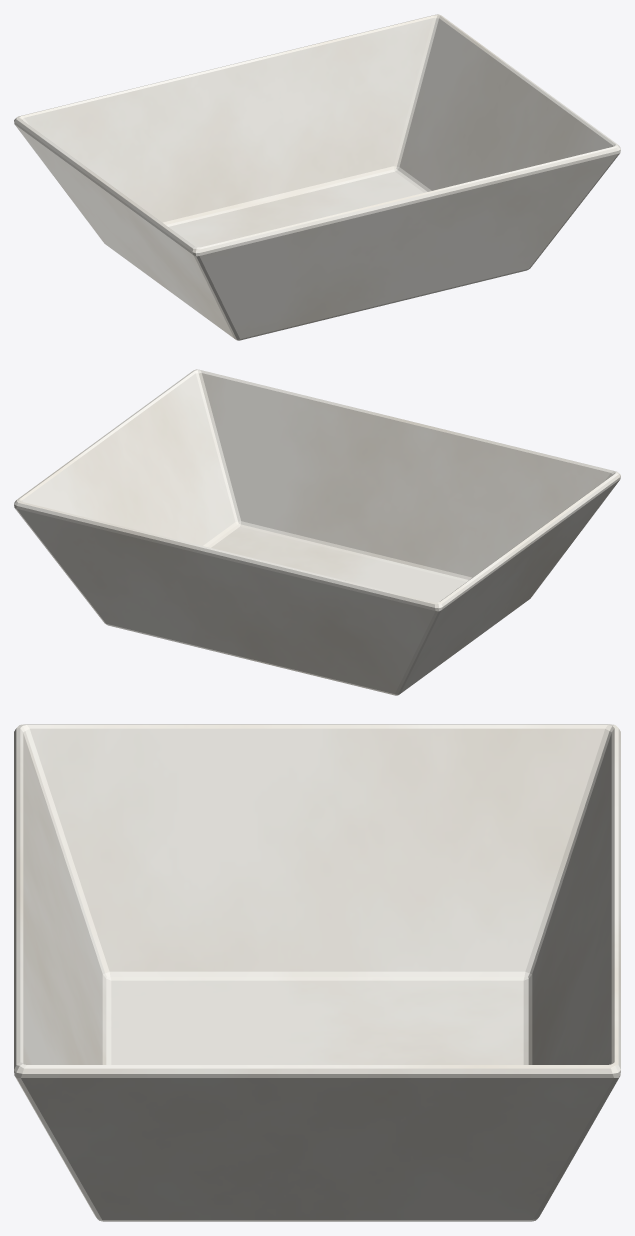
File: side_boat.glb
The picture shows the model from 3 angles, top to bottom: view 1: azimuth 30°, elevation 25°; view 2: azimuth 150°, elevation 25°; view 3: azimuth 270°, elevation 25°; orthographic projection. The views are drawn at different scales.
Visible parts, largest first — view 1: side_boat; view 2: side_boat; view 3: side_boat.
Part boxes in pixels (x1,y1,x2,y2): side_boat: [14, 14, 620, 340]; side_boat: [14, 369, 620, 695]; side_boat: [14, 724, 620, 1221].
Size of the model in its own units: 0.6165 by 0.1746 by 0.457.
1 material, 1 textured.
